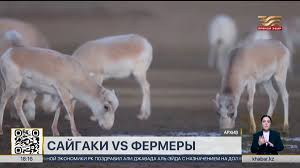saiga: (1, 45, 121, 140), (211, 38, 300, 135)
